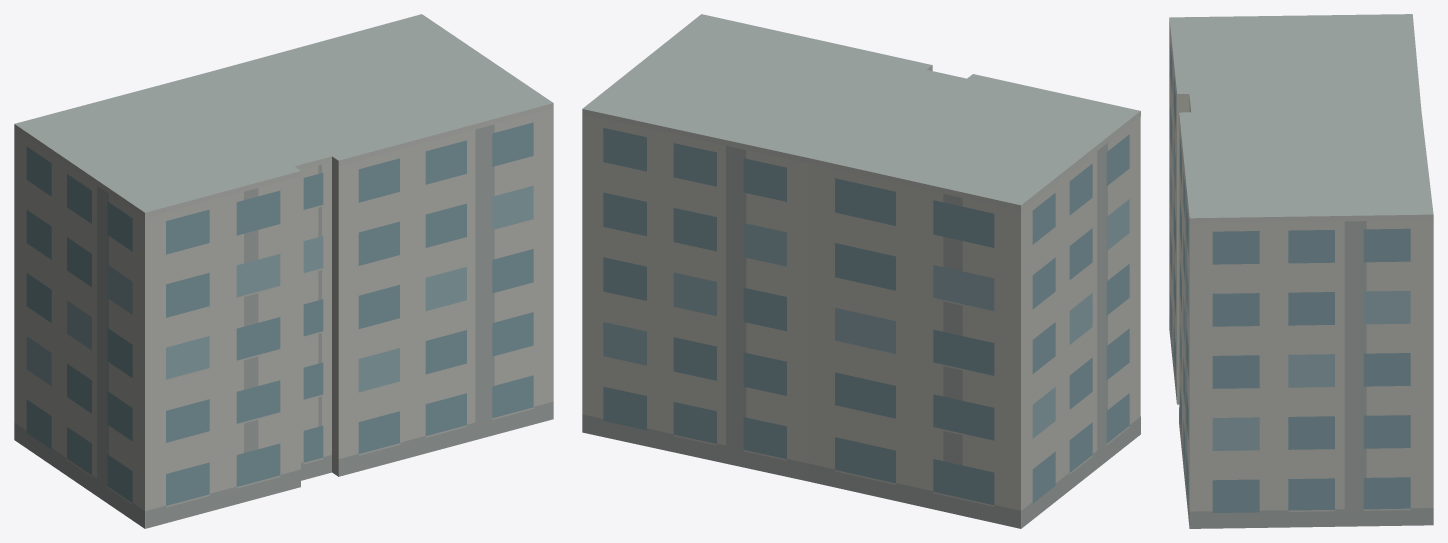
The model's file is survey-upis-32848620.glb.
The picture shows the model from 3 angles, left to right: view 1: azimuth 30°, elevation 25°; view 2: azimuth 150°, elevation 25°; view 3: azimuth 270°, elevation 25°; orthographic projection. The views are drawn at different scales.
Visible parts, largest first — view 1: survey-upis-32848620.tmp; view 2: survey-upis-32848620.tmp; view 3: survey-upis-32848620.tmp.
Boxes of the visible parts, bbox=[...] form: survey-upis-32848620.tmp: bbox=[14, 14, 553, 528]; survey-upis-32848620.tmp: bbox=[582, 14, 1140, 528]; survey-upis-32848620.tmp: bbox=[1169, 14, 1433, 528].
Bounding box in the file's own units: 19.6 × 13.9 × 10.73.
